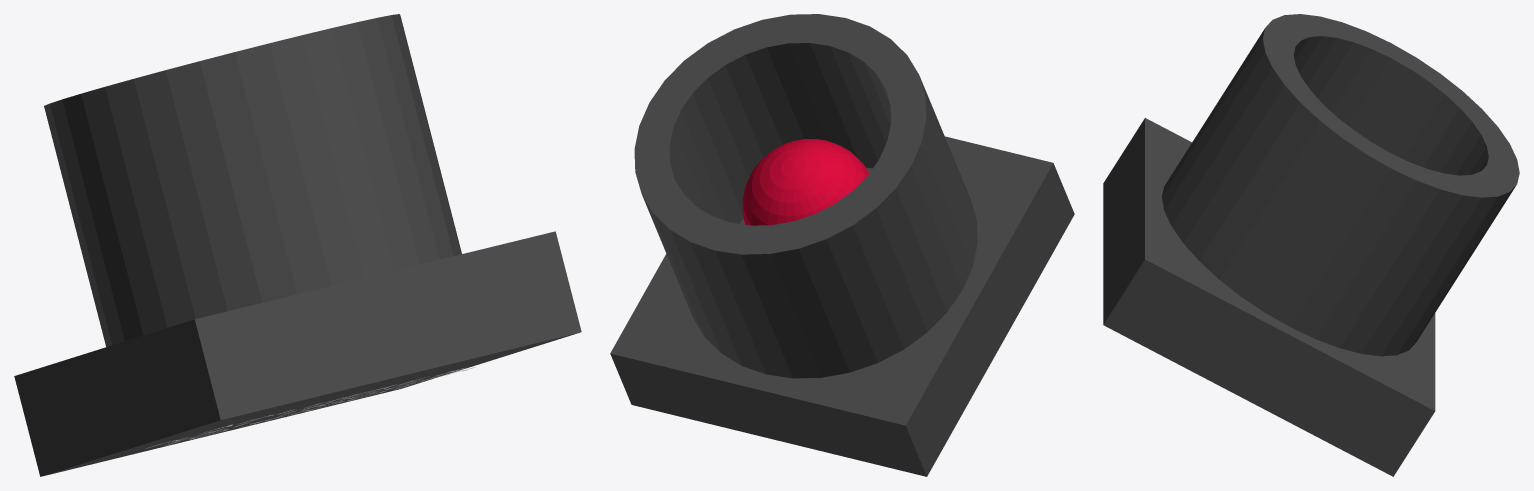
Rendered from launcher.glb.
3 renders of one model, left to right at view 1: azimuth 30°, elevation 25°; view 2: azimuth 150°, elevation 25°; view 3: azimuth 270°, elevation 25°, orthographic. The views are drawn at different scales.
Parts seen in each view (by area): view 1: Launcher, Text; view 2: Launcher, Ball; view 3: Launcher.
Boxes of the visible parts, left/top/right/bottom form: Launcher: left=14, top=14, right=581, bottom=476; Text: left=146, top=367, right=475, bottom=448; Launcher: left=610, top=14, right=1074, bottom=476; Ball: left=742, top=139, right=868, bottom=225; Launcher: left=1103, top=14, right=1519, bottom=476.
Size of the model in its own units: 0.5 by 0.6051 by 0.6215.
